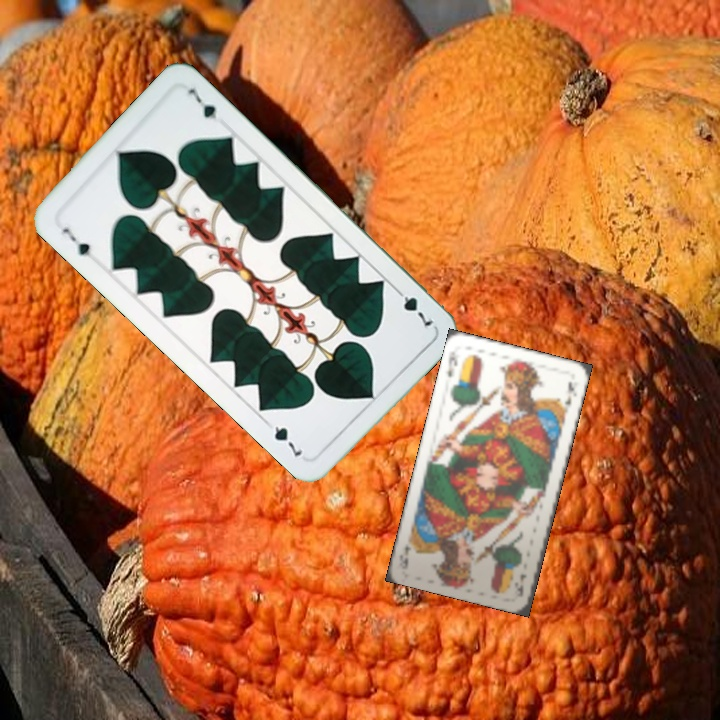EK: (443, 347, 463, 380), (510, 570, 529, 599)
G7: (390, 283, 436, 329), (58, 224, 93, 259)
